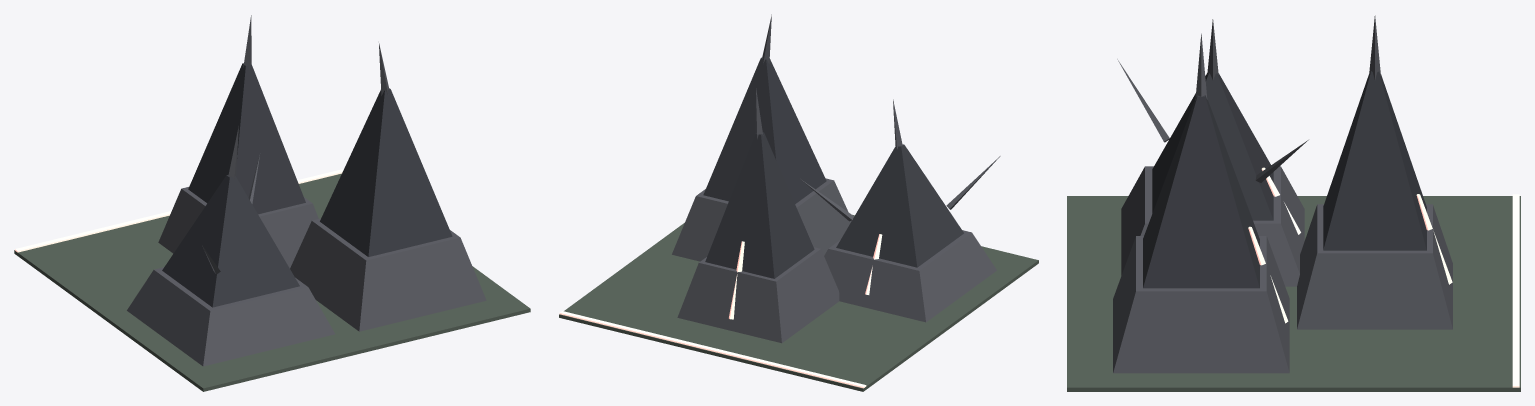
Rendered from zone_low_1.glb.
3 renders of one model, left to right at view 1: azimuth 30°, elevation 25°; view 2: azimuth 150°, elevation 25°; view 3: azimuth 270°, elevation 25°, orthographic. The views are drawn at different scales.
Parts seen in each view (by area): view 1: zone_low_1, detail; view 2: zone_low_1, detail; view 3: zone_low_1, detail.
Part boxes in pixels (box(x1,y1,x2,y2)): zone_low_1: box(14, 15, 530, 391); detail: box(15, 153, 343, 274); zone_low_1: box(559, 14, 1038, 391); detail: box(559, 156, 1000, 388); zone_low_1: box(1067, 15, 1520, 391); detail: box(1117, 59, 1519, 387).
Bounding box in the file's own units: 19.6 × 14.48 × 19.6.
